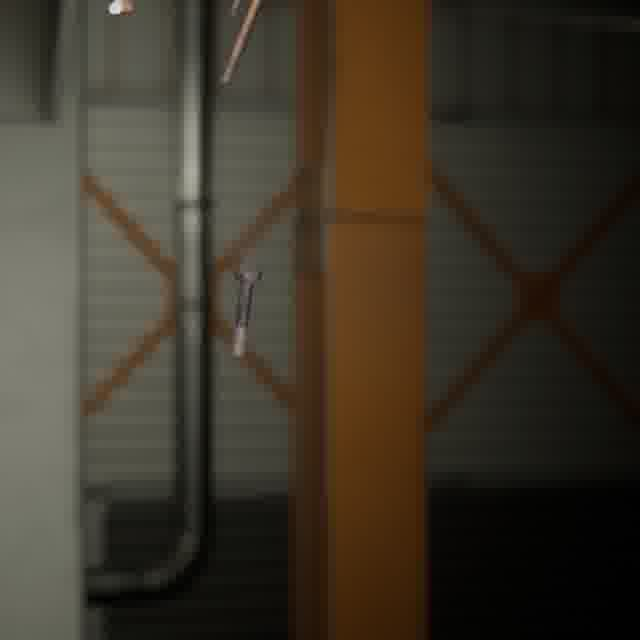bolt: (215, 0, 268, 89), (227, 259, 266, 361)
